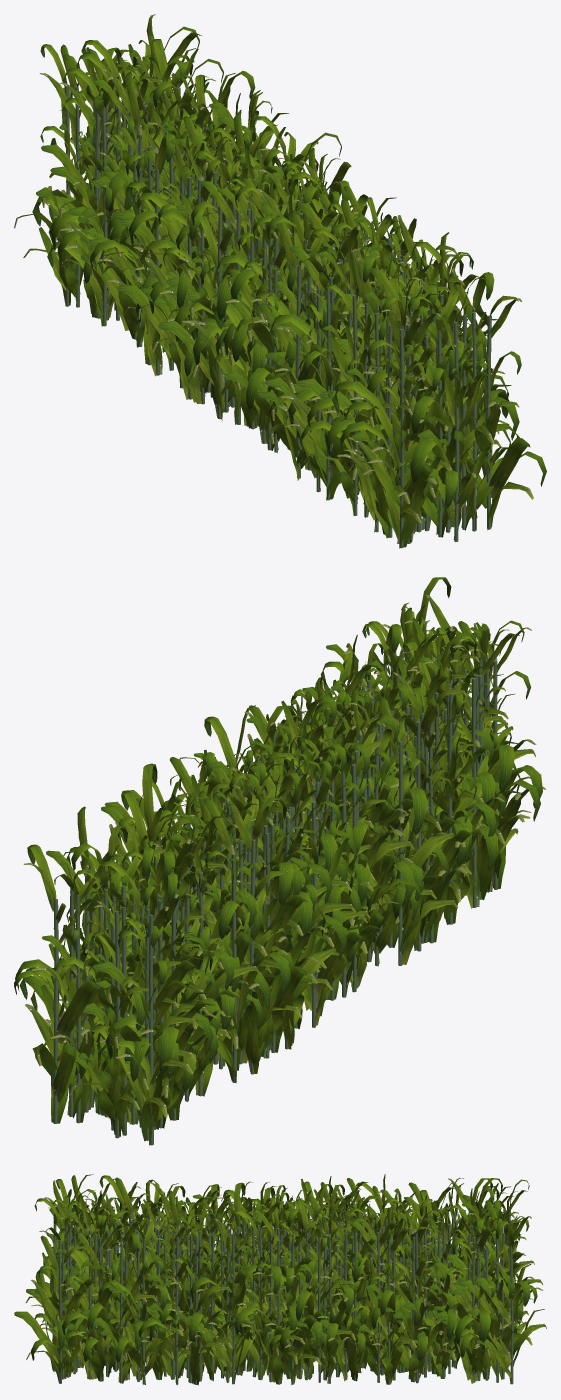
File: milharal4x25_denso.fbx
3 views of the same model, one above another, from view 1: azimuth 30°, elevation 25°; view 2: azimuth 150°, elevation 25°; view 3: azimuth 270°, elevation 25° (orthographic). The views are drawn at different scales.
Parts seen in each view (by area): view 1: Plantacao2; view 2: Plantacao2; view 3: Plantacao2.
Part boxes in pixels (box(x1,y1,x2,y2)): Plantacao2: box(14, 14, 546, 548); Plantacao2: box(14, 577, 546, 1145); Plantacao2: box(14, 1174, 546, 1385).
Bounding box in the file's own units: 839 × 1109 × 2883.
